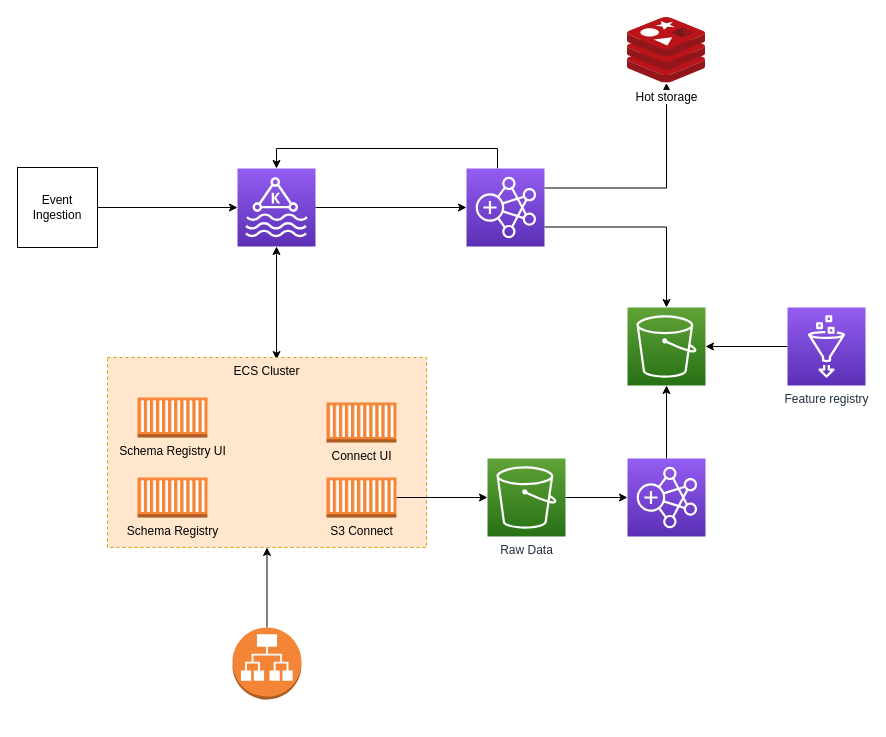
Some shapes in this 886 by 737 pixel diagram are drawn without their labels. Here are the shapes that lost their labels. From the top down, the centre of each, then its label:
At pixel 276 207: "Kafka cluster".
At pixel 505 207: "Streaming processing".
At pixel 666 346: "Cold storage".
At pixel 666 497: "Batch pŕocessing".
At pixel 267 663: "Interface access".
